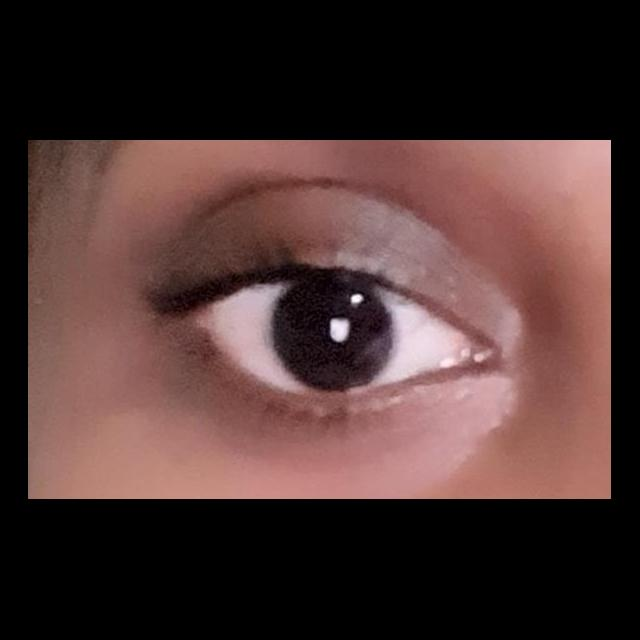eye: (201, 274, 475, 393)
iris: (269, 278, 395, 392)
